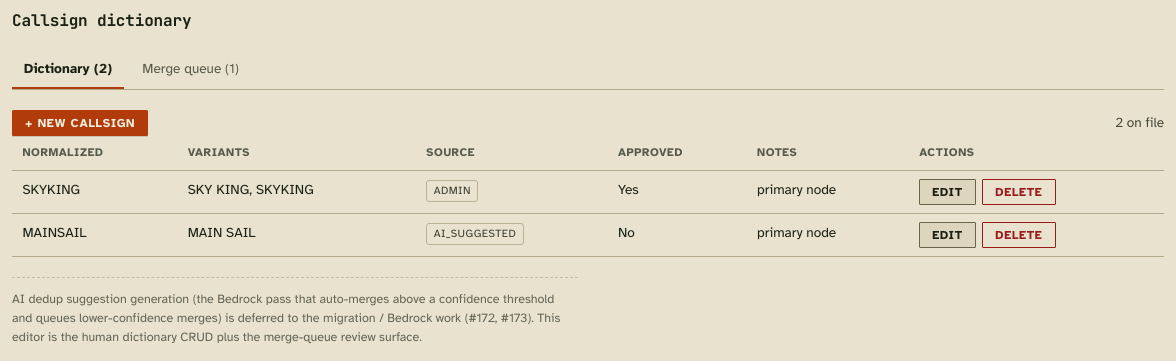
Test case: CallsignEditor — merge queue tab › filters to AI-suggested / unapproved rows
This screenshot has width=1176, height=361.
Expected: the table with test id "cs-table" is shown, [12,136,1164,256]
Click the tab "Merge queue (1)". click: {"x": 191, "y": 69}
box: [130,50,251,89]
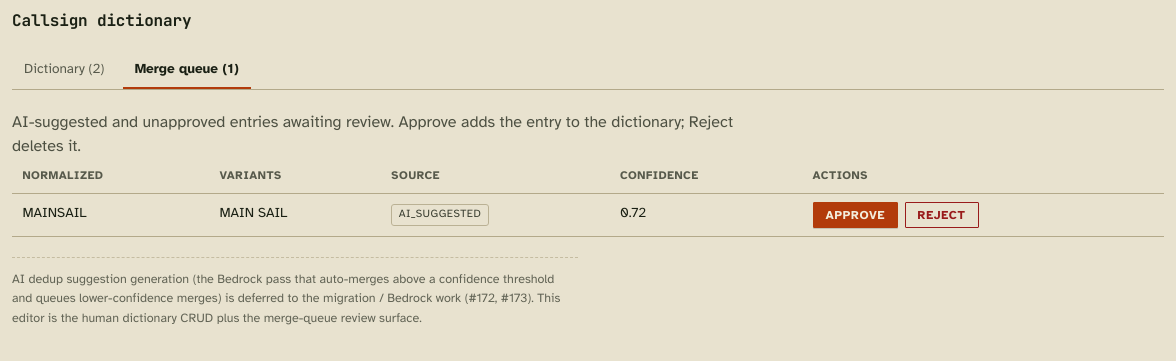
Expected: the table with test id "cs-queue-table" is shown, [12,159,1164,237]
Expected: the text "0.72" is shown, [610,194,802,237]
Expected: the text "SKYKING" is gone
